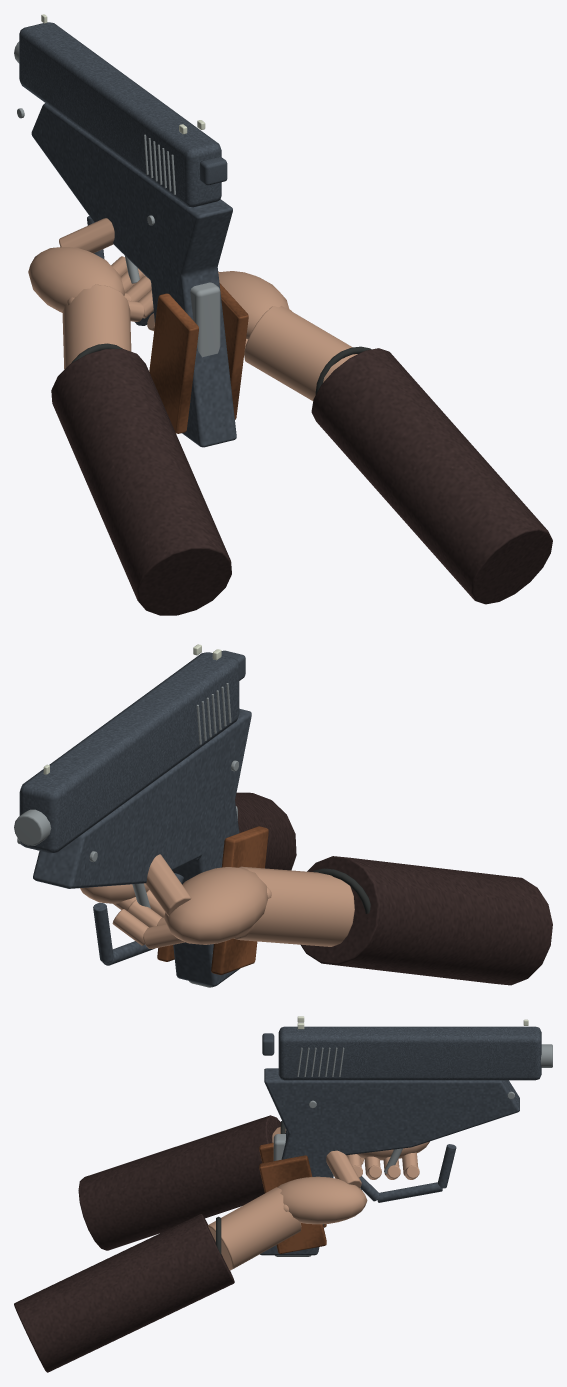
The model's file is hipower.glb.
3 renders of one model, top to bottom at view 1: azimuth 30°, elevation 25°; view 2: azimuth 150°, elevation 25°; view 3: azimuth 270°, elevation 25°, orthographic. The views are drawn at different scales.
Visible parts, largest first — view 1: hipower__HAND_L, hipower__HAND_R, hipower__BODY, hipower__BOLT, hipower__MAGAZINE; view 2: hipower__HAND_L, hipower__BODY, hipower__BOLT, hipower__HAND_R; view 3: hipower__HAND_R, hipower__BODY, hipower__HAND_L, hipower__BOLT.
Boxes of the visible parts, x1,y1,x2,y2 form: hipower__HAND_L: [28, 218, 231, 615]; hipower__HAND_R: [147, 271, 552, 604]; hipower__BODY: [14, 14, 248, 447]; hipower__BOLT: [19, 22, 221, 207]; hipower__MAGAZINE: [190, 282, 220, 357]; hipower__HAND_L: [112, 854, 552, 985]; hipower__BODY: [14, 644, 268, 986]; hipower__BOLT: [19, 652, 239, 853]; hipower__HAND_R: [80, 792, 296, 910]; hipower__HAND_R: [14, 1150, 367, 1372]; hipower__BODY: [259, 1016, 552, 1255]; hipower__HAND_L: [78, 1115, 429, 1250]; hipower__BOLT: [278, 1026, 541, 1080].
Size of the model in its own units: 0.3294 by 0.3301 by 0.5433.
Materials: 7 (3 with a texture image).
